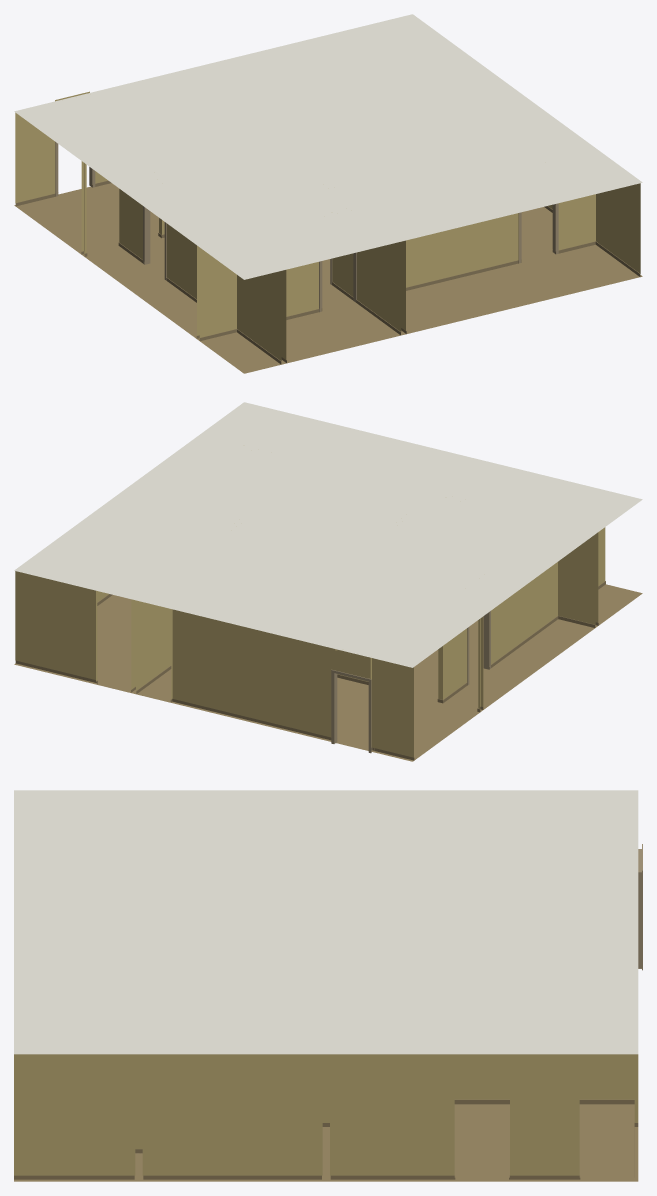
Rendered from chunk_3_2.glb.
3 views of the same model, one above another, from view 1: azimuth 30°, elevation 25°; view 2: azimuth 150°, elevation 25°; view 3: azimuth 270°, elevation 25° (orthographic). The views are drawn at different scales.
Parts seen in each view (by area): view 1: chunk_3_2; view 2: chunk_3_2; view 3: chunk_3_2.
Boxes of the visible parts, box(x1,y1,x2,y2) form: chunk_3_2: box(14, 14, 642, 373); chunk_3_2: box(14, 402, 642, 761); chunk_3_2: box(14, 790, 642, 1181).
Size of the model in its own units: 12.03 by 2.7 by 12.09.
